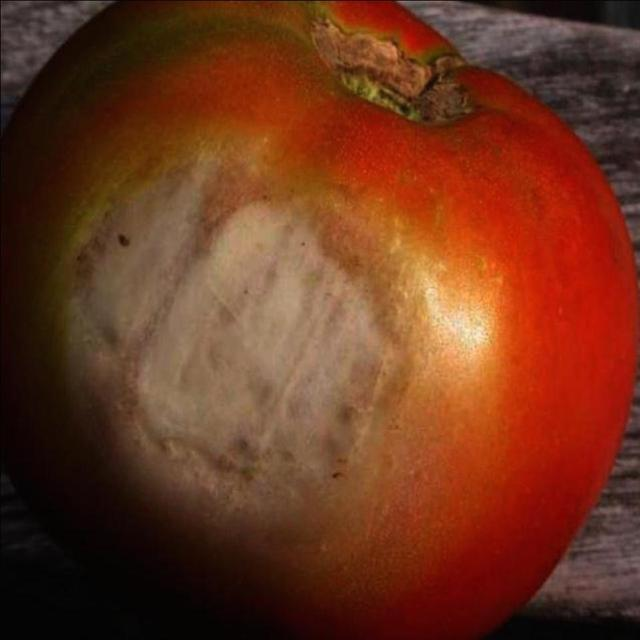Sunscald Fruit: (36, 79, 321, 382)
